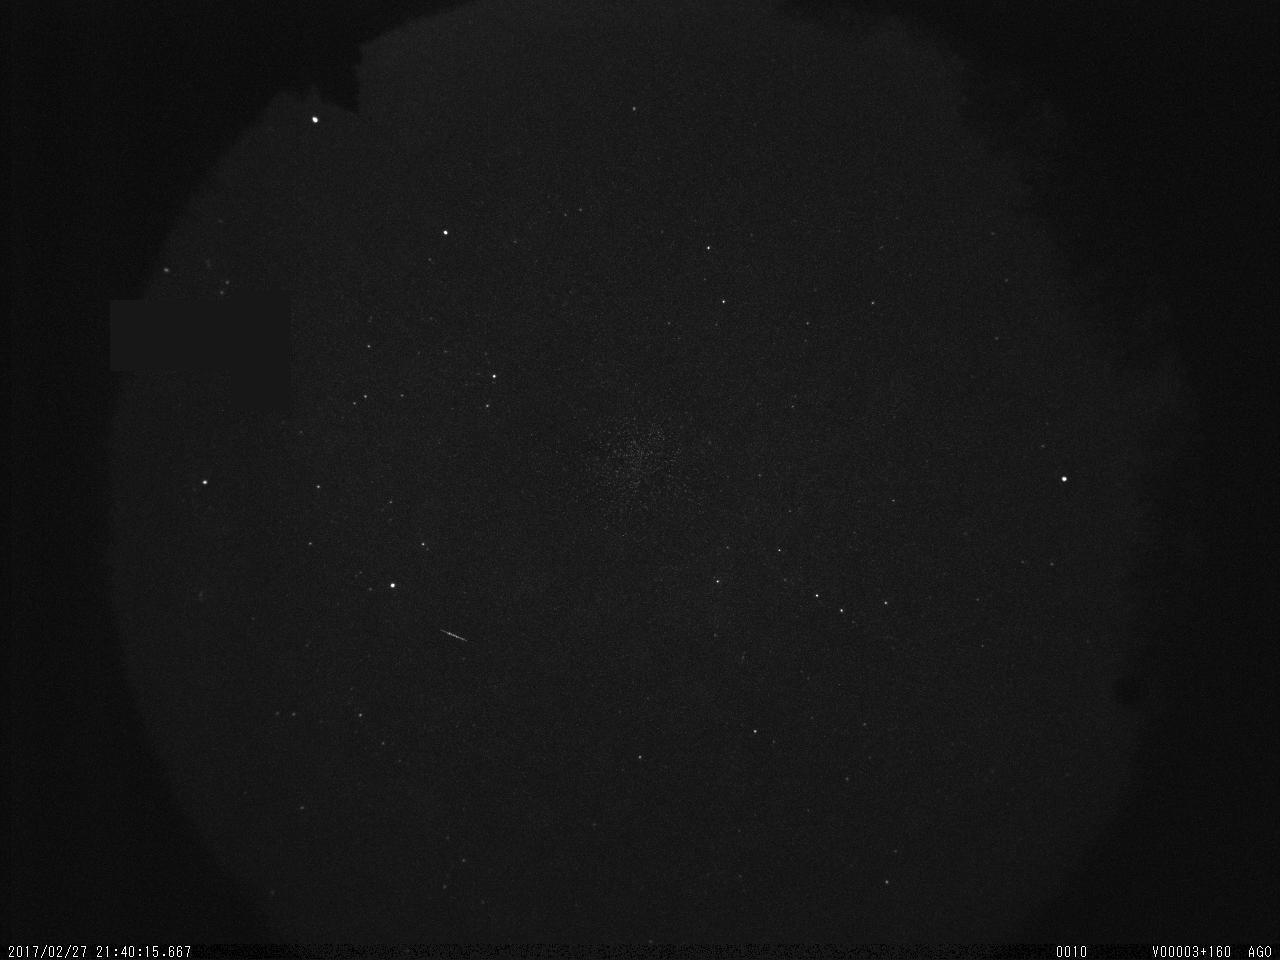meteor: (432, 622, 475, 650)
